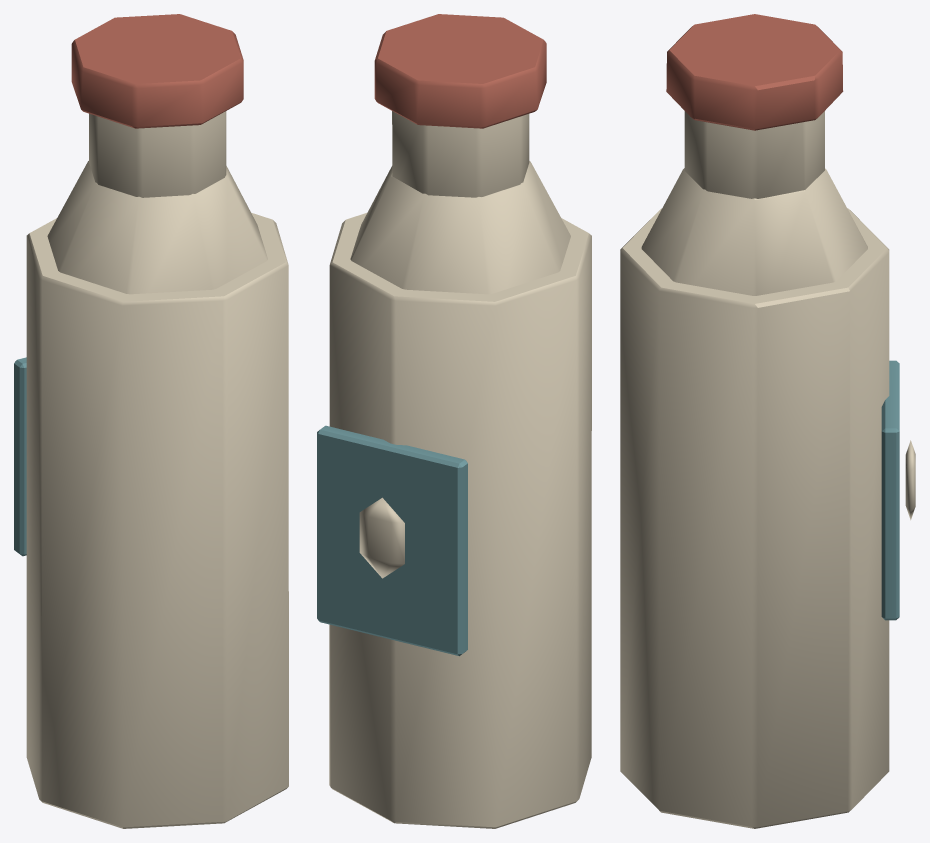
The model's file is milk_low.glb.
3 renders of one model, left to right at view 1: azimuth 30°, elevation 25°; view 2: azimuth 150°, elevation 25°; view 3: azimuth 270°, elevation 25°, orthographic.
Size of the model in its own units: 0.1209 by 0.358 by 0.1327.
